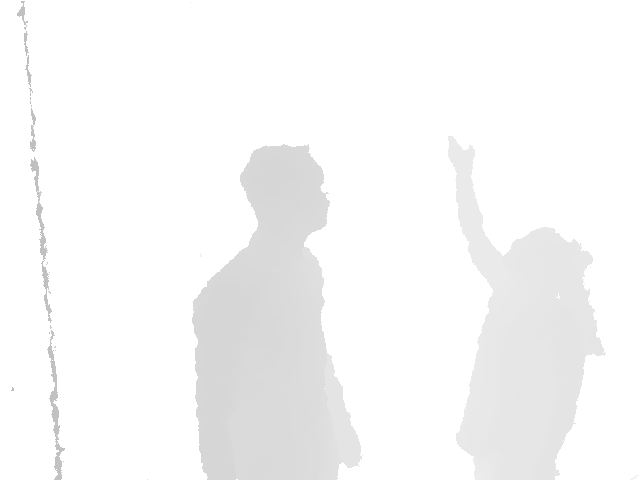hand: (446, 134, 477, 176)
head: (240, 144, 330, 243), (498, 226, 589, 302)
person: (190, 143, 366, 480), (445, 134, 608, 480)
